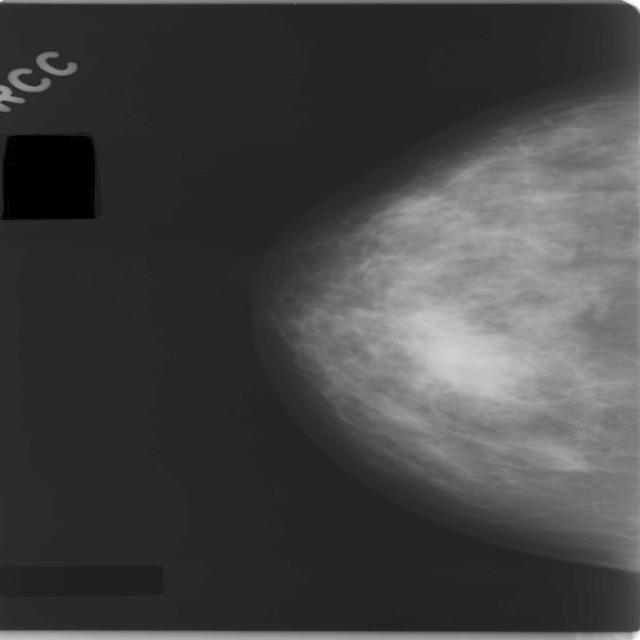tumour: (390, 309, 536, 400)
